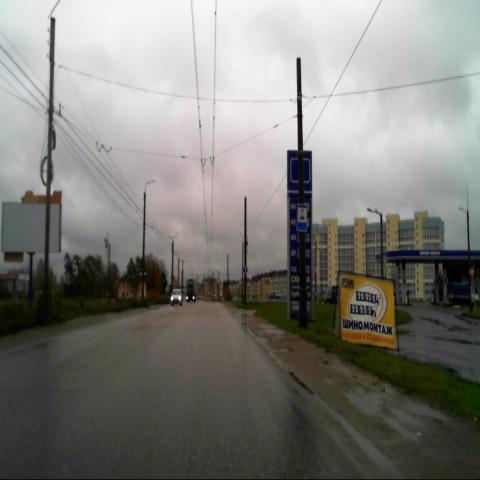7_5: (296, 202, 307, 232)
